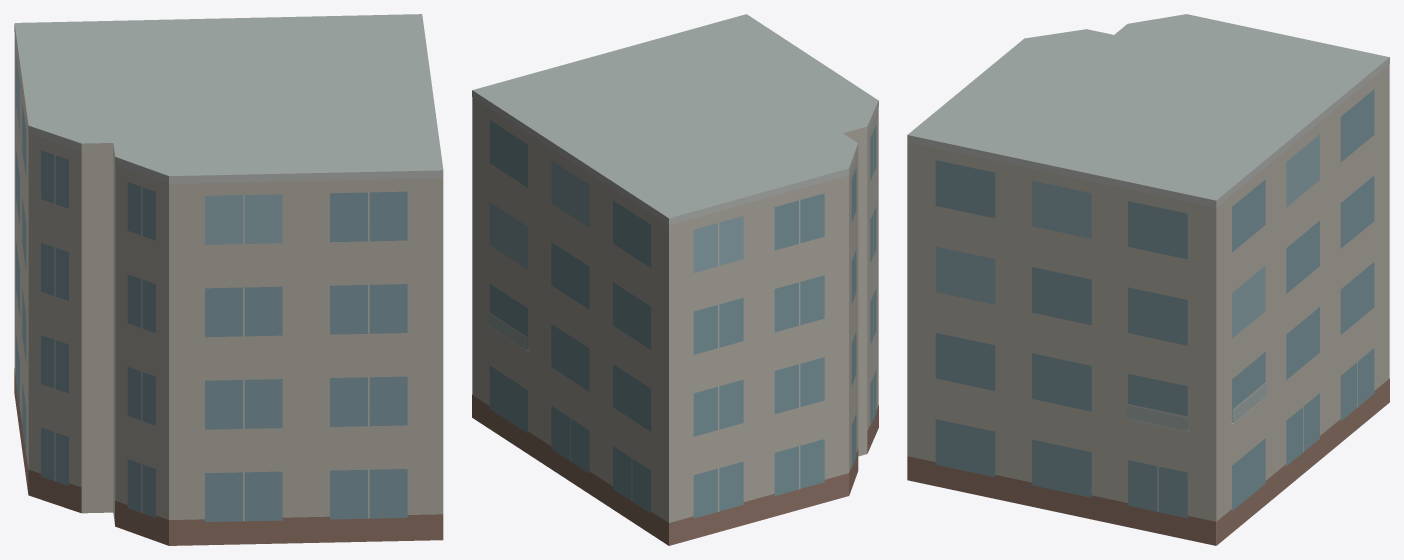
Rendered from survey-upis-32656961.glb.
3 views of the same model, side by side, from view 1: azimuth 30°, elevation 25°; view 2: azimuth 150°, elevation 25°; view 3: azimuth 270°, elevation 25° (orthographic). The views are drawn at different scales.
Parts seen in each view (by area): view 1: survey-upis-32656961.tmp; view 2: survey-upis-32656961.tmp; view 3: survey-upis-32656961.tmp.
Boxes of the visible parts, x1=… form: survey-upis-32656961.tmp: x1=14, y1=14, x2=443, y2=545; survey-upis-32656961.tmp: x1=472, y1=14, x2=878, y2=545; survey-upis-32656961.tmp: x1=907, y1=14, x2=1389, y2=545.
Size of the model in its own units: 13.57 by 11.7 by 14.83.
